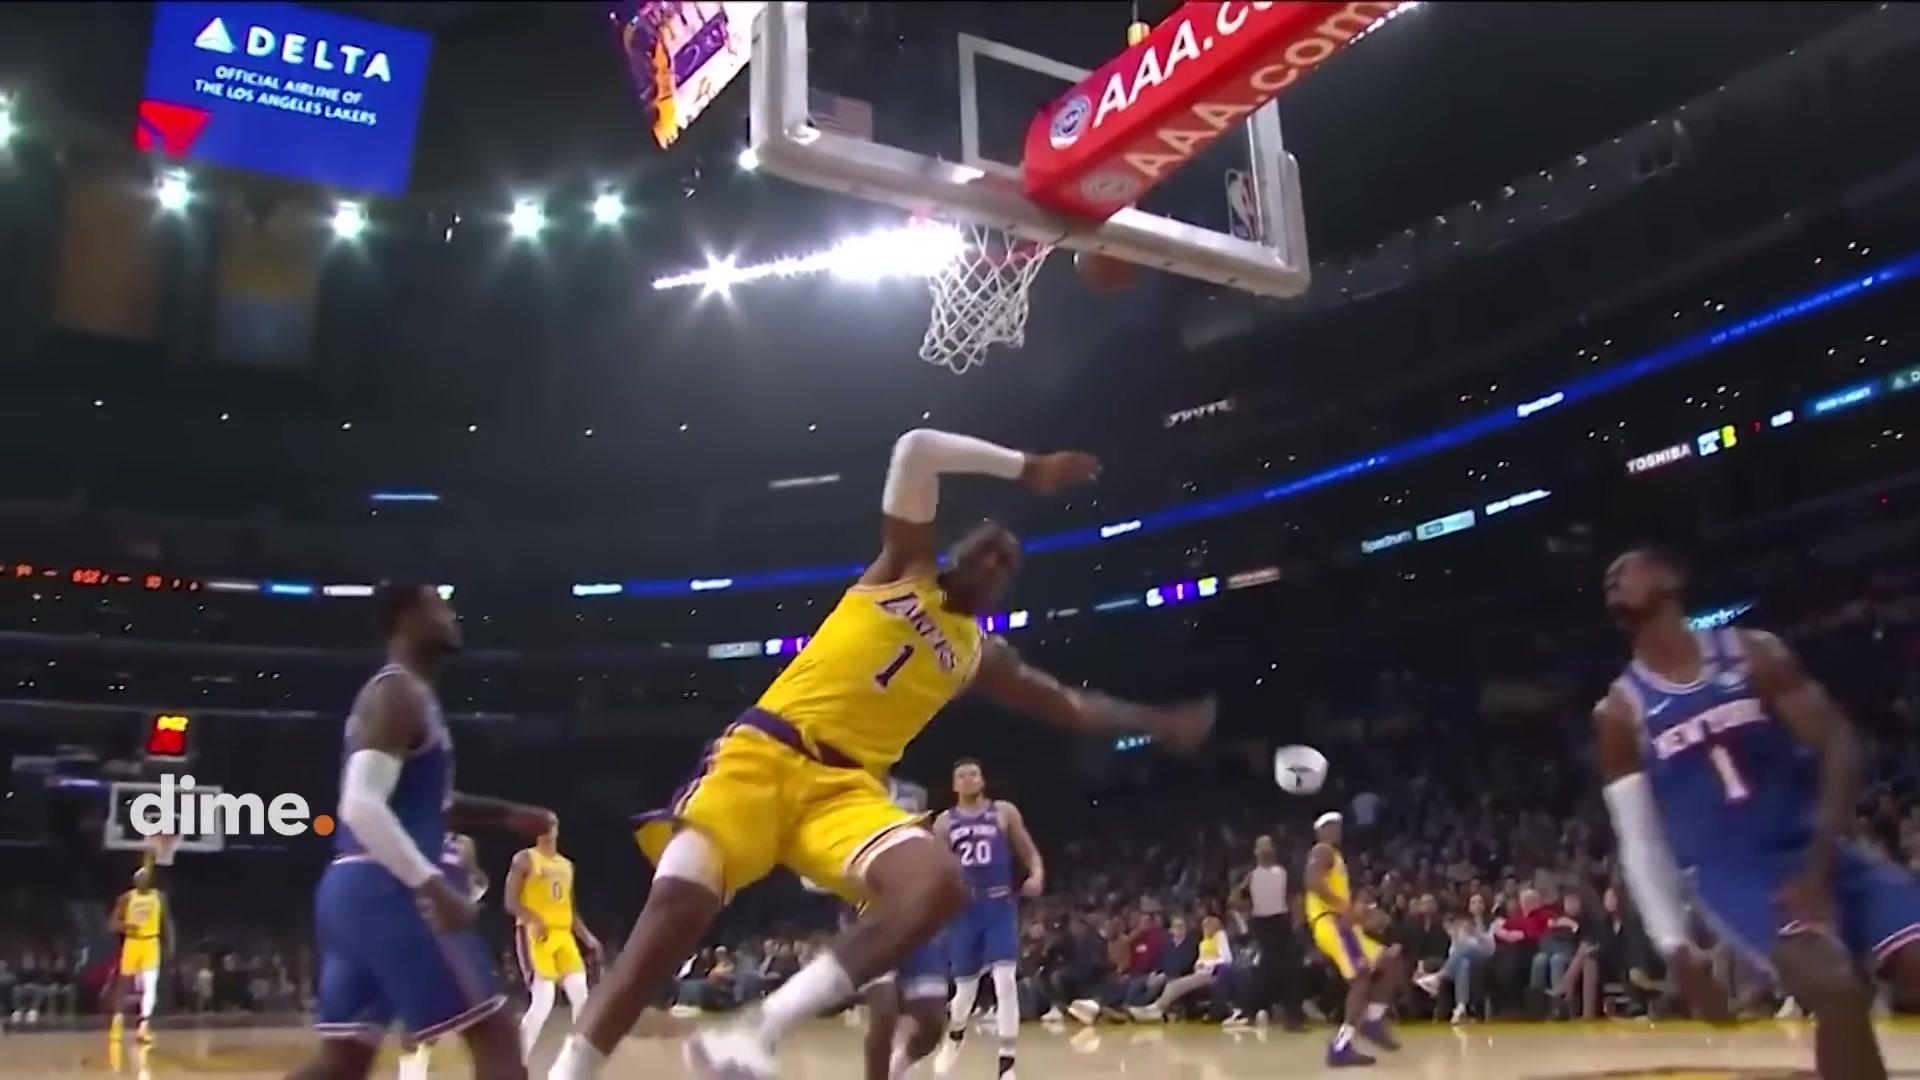no_foul: (641, 401, 1153, 1046)
